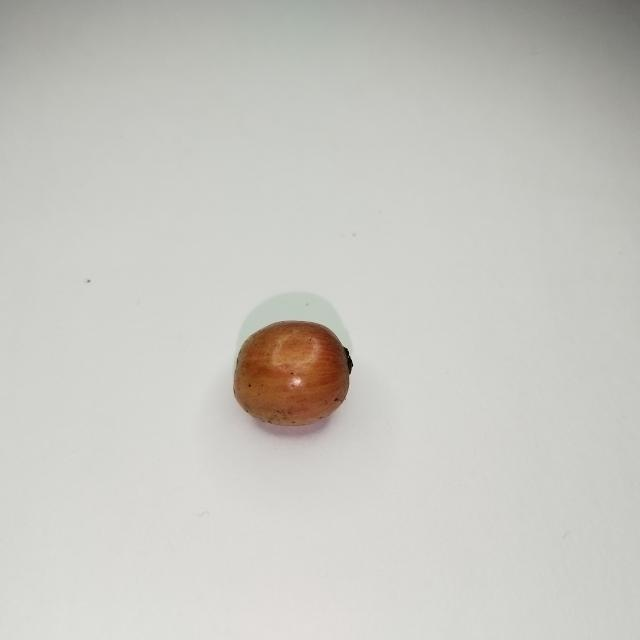Danado: (234, 322, 348, 423)
